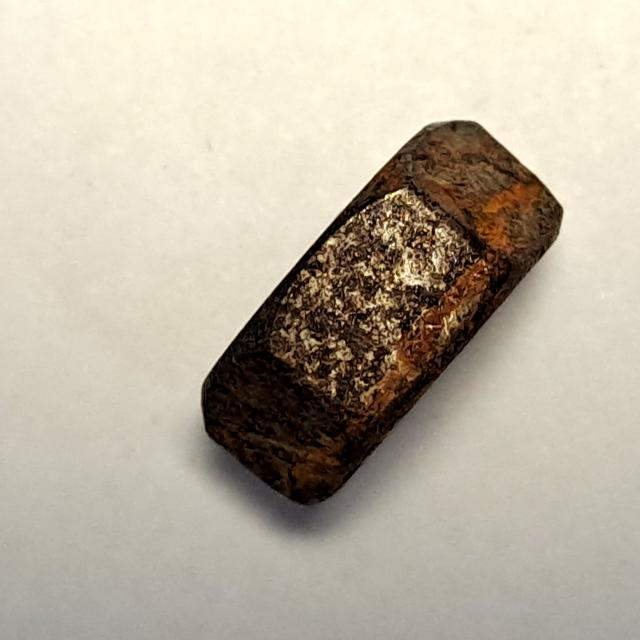Side_Rust: (188, 113, 575, 523)
